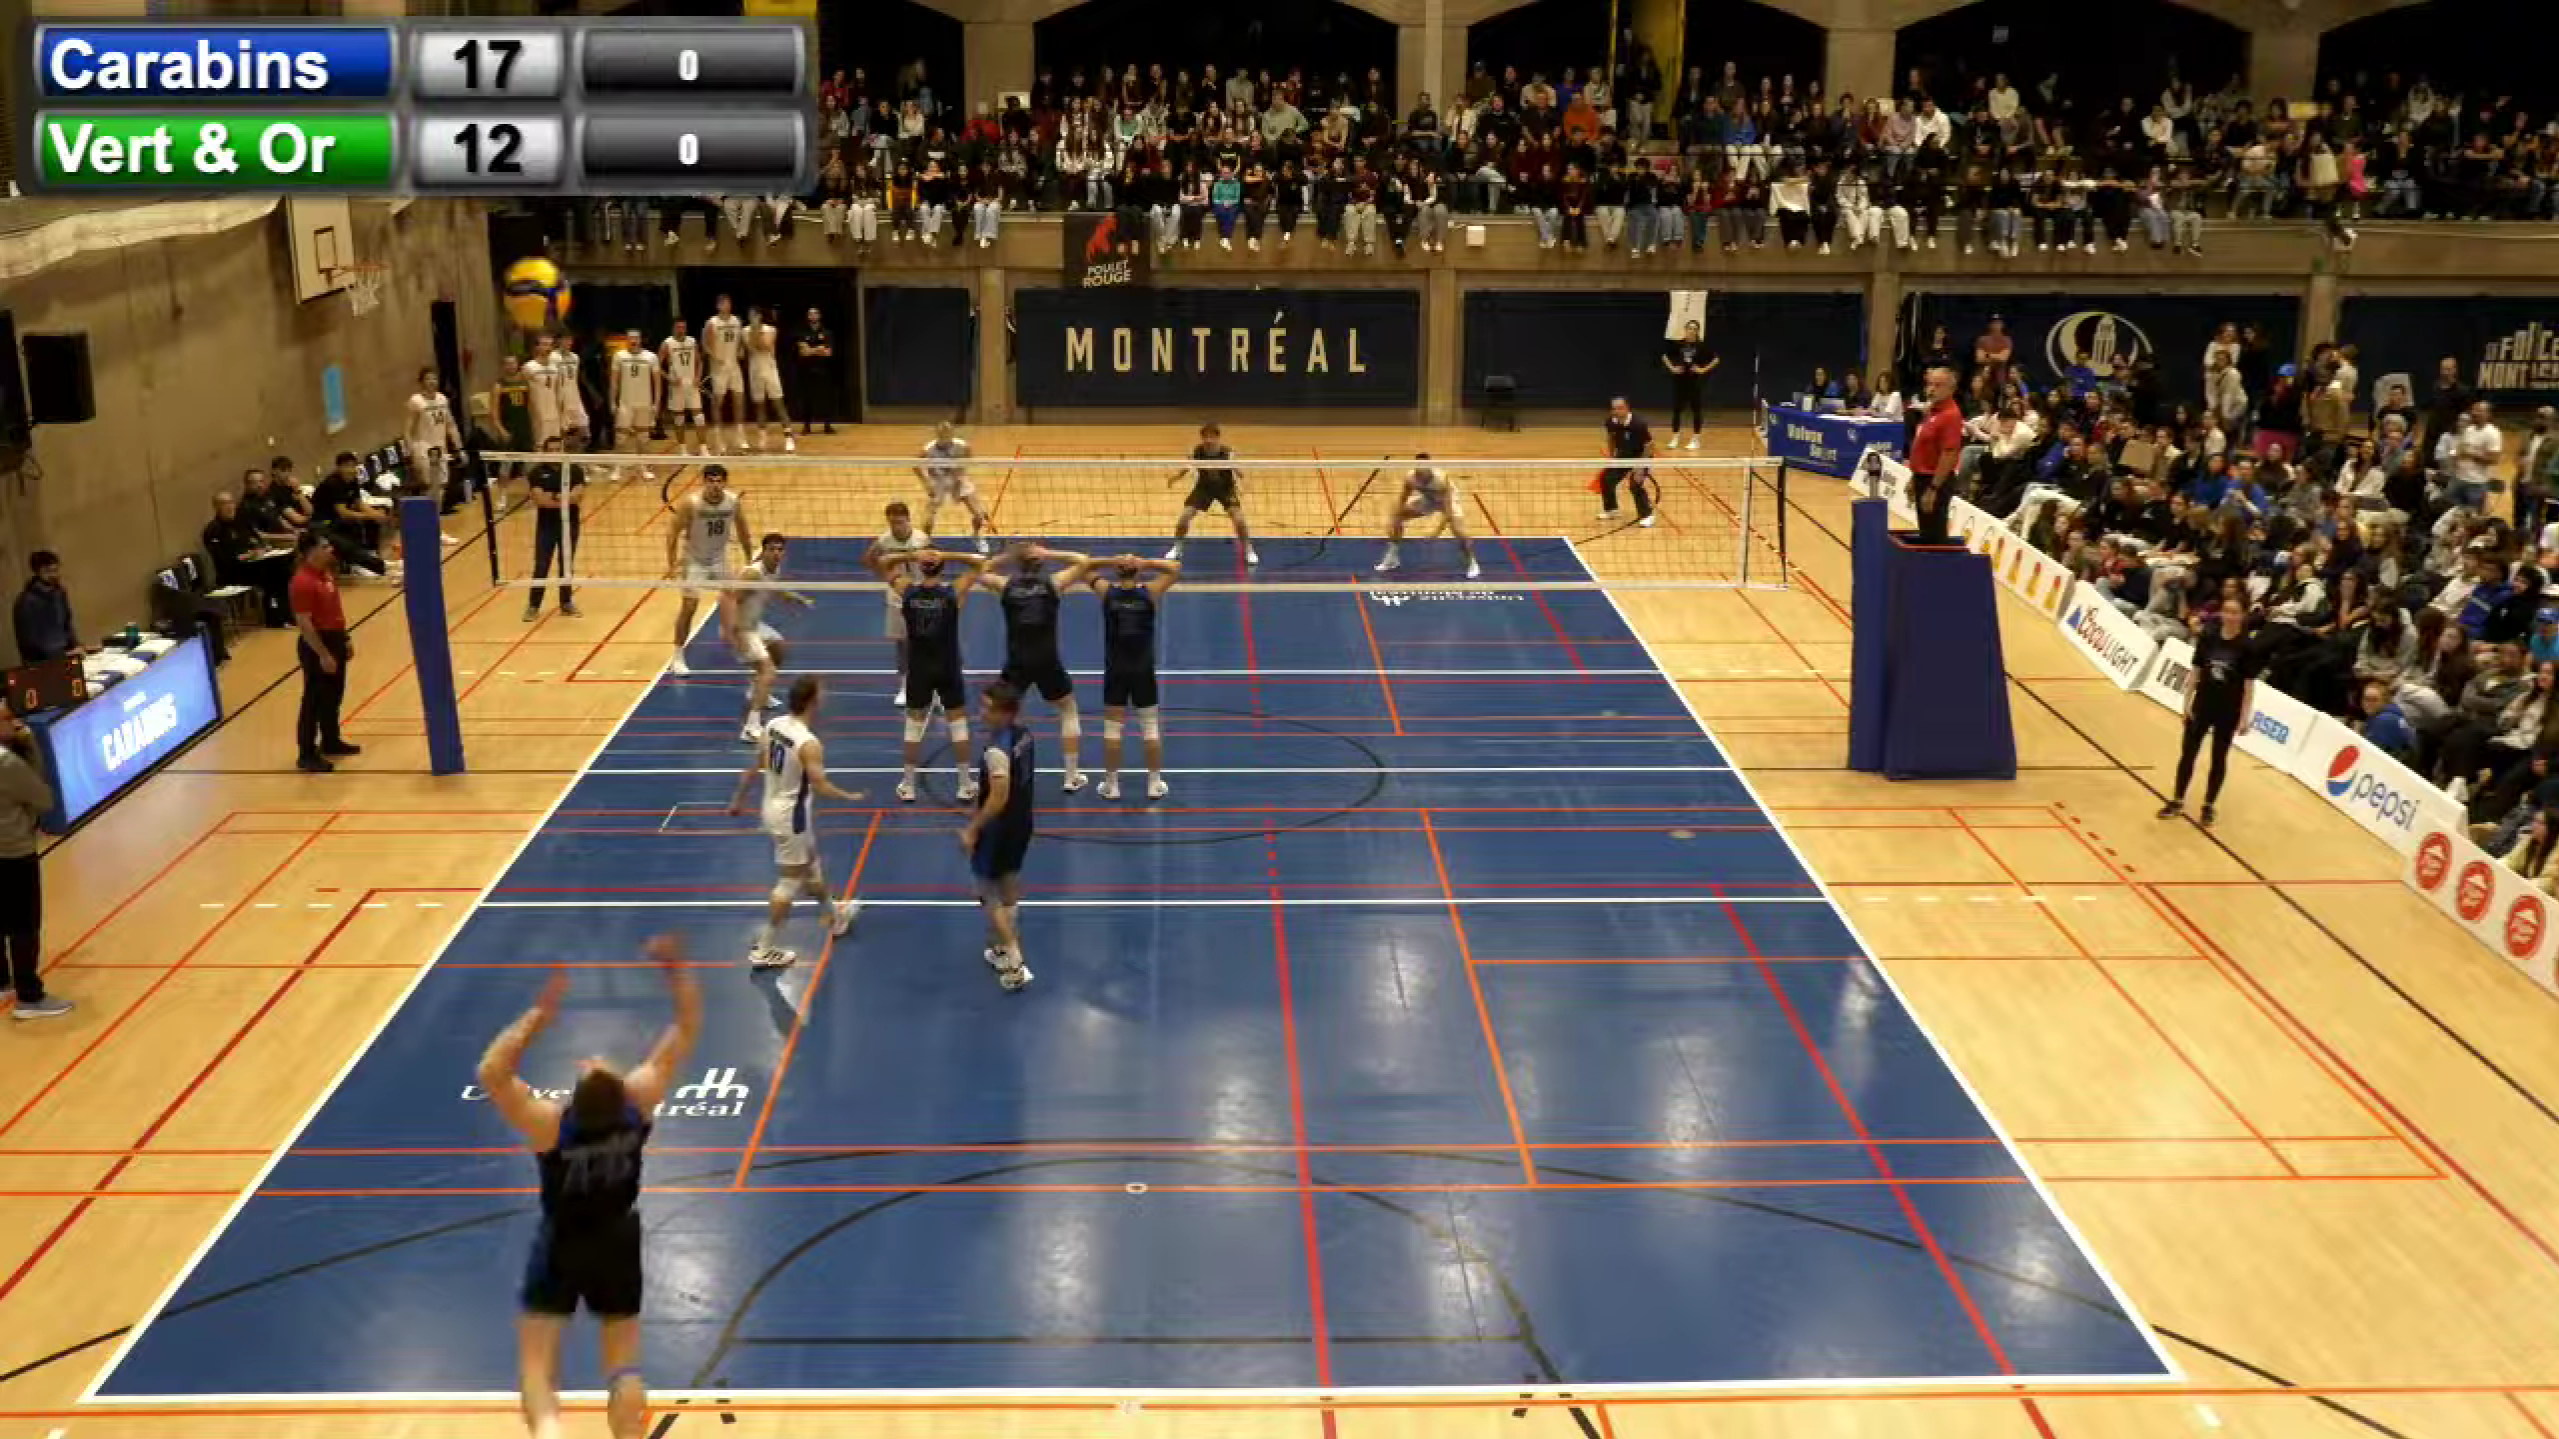Ball: (497, 253, 575, 330)
